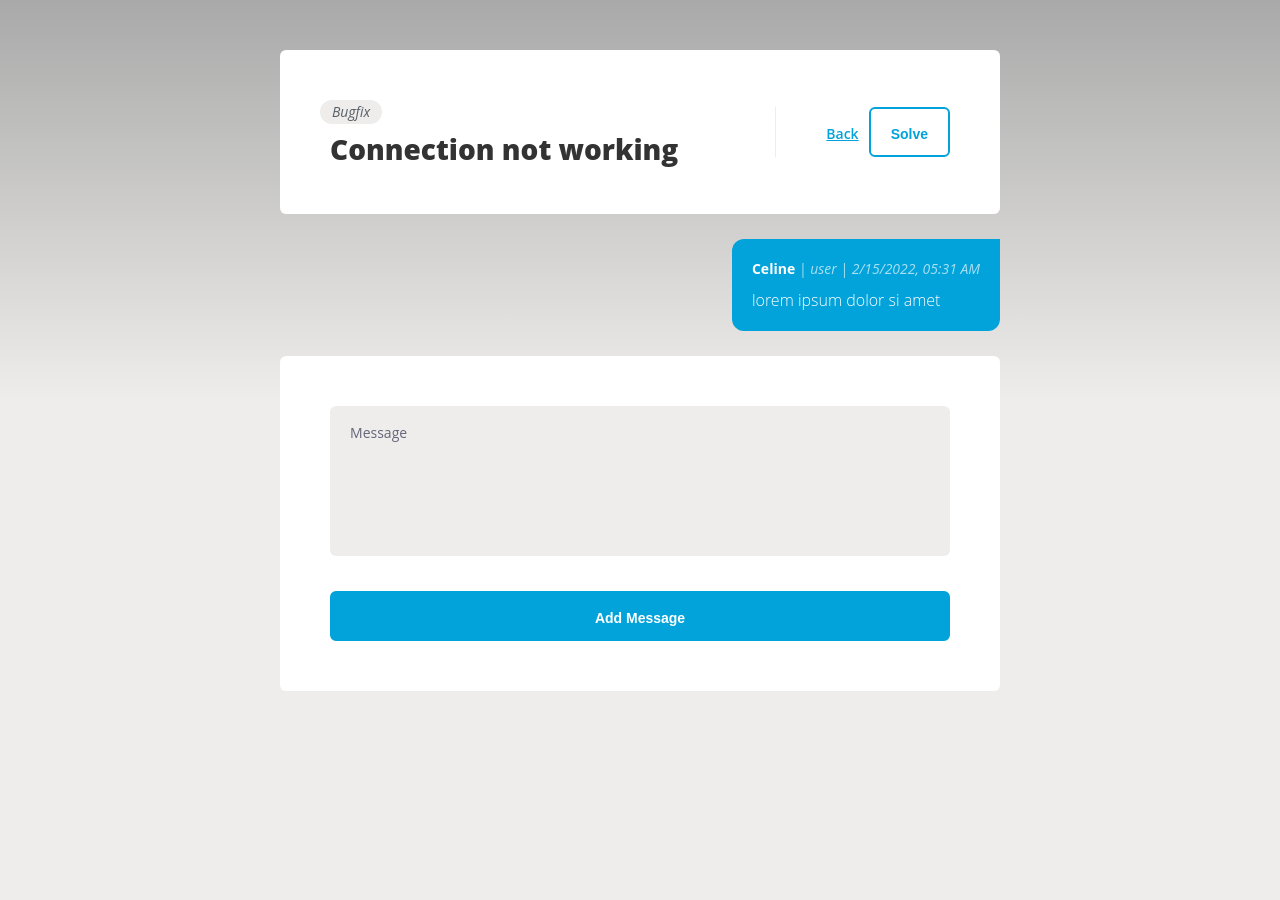
Ticket › should display API error messages when unsuccessful
In the text box named "Message": (640, 481) [330, 406, 950, 556], type "blabla"
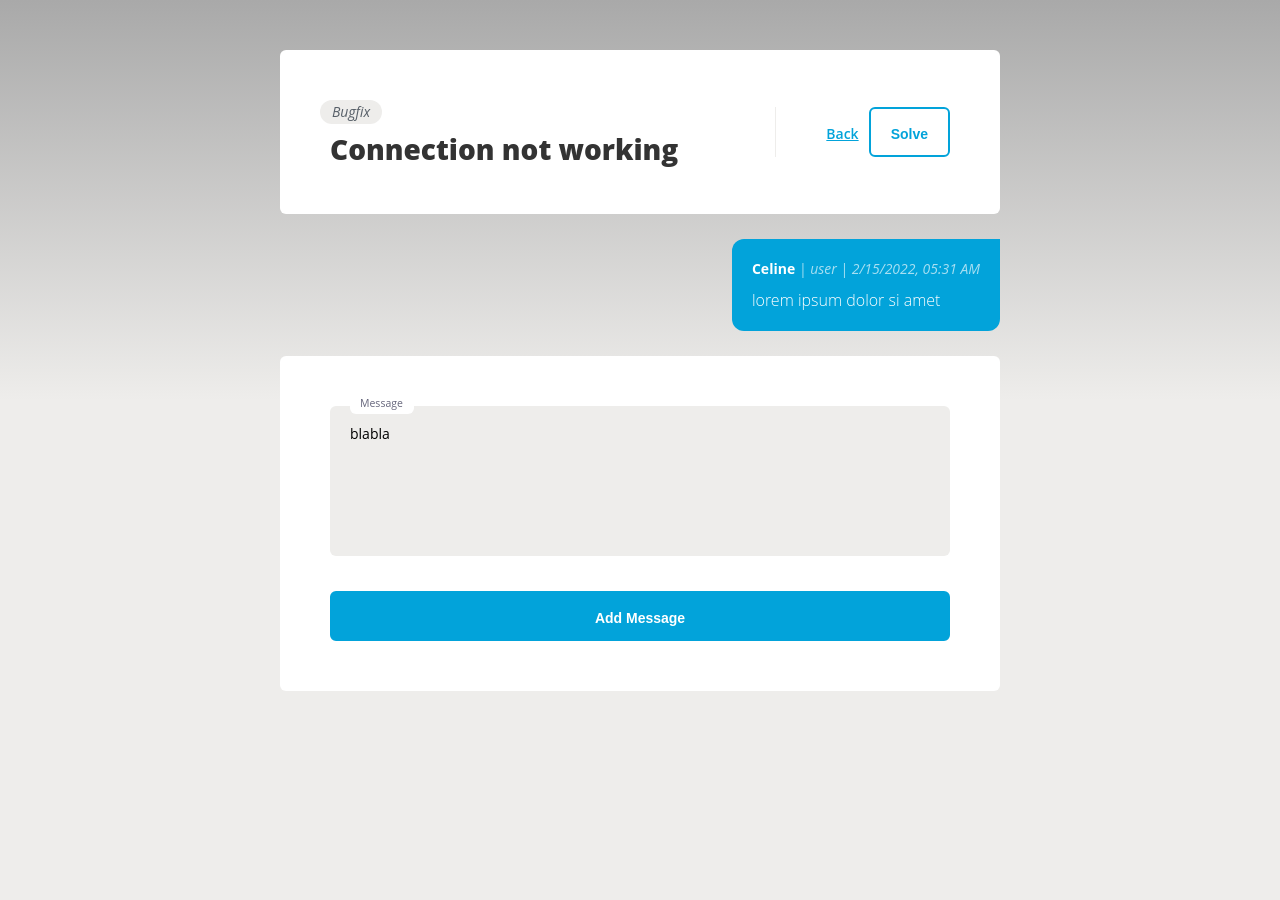
Click the button "Add Message": (640, 616) [330, 591, 950, 641]
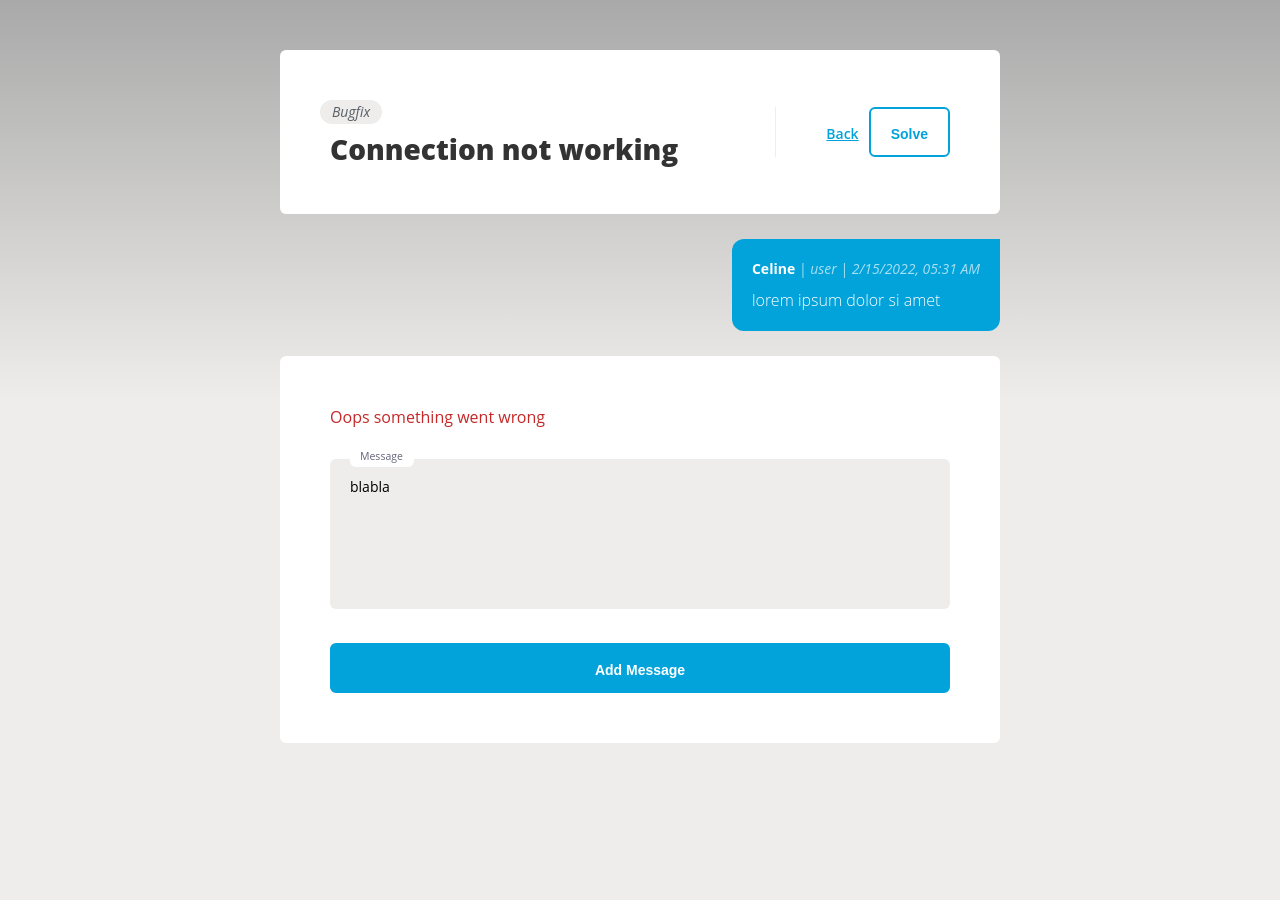
Expected: the text "Oops something went wrong" is shown, [330, 406, 545, 428]
